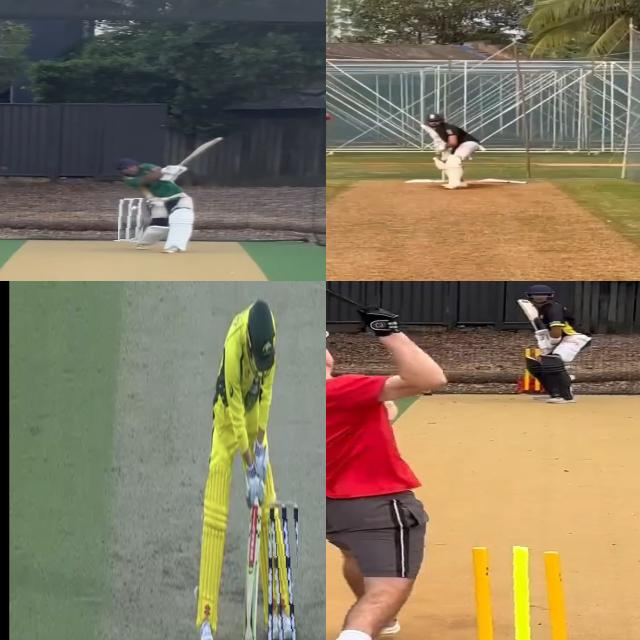Cricket ball: (129, 205, 144, 215), (326, 114, 331, 123)
Stumps: (451, 546, 577, 640), (267, 500, 298, 640), (118, 198, 146, 243)
